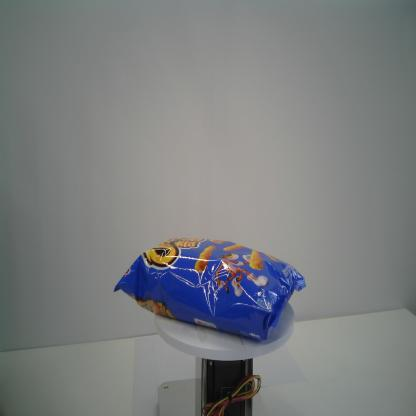Puffed Food: (112, 236, 308, 343)
